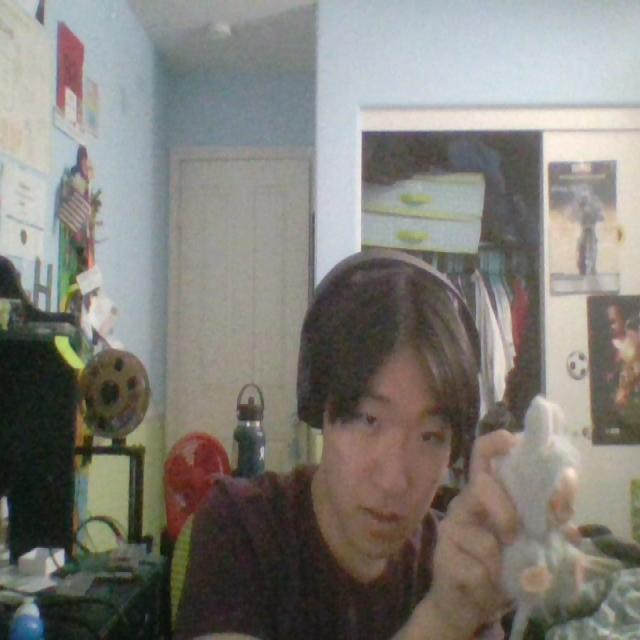labubu: (497, 397, 610, 639)
